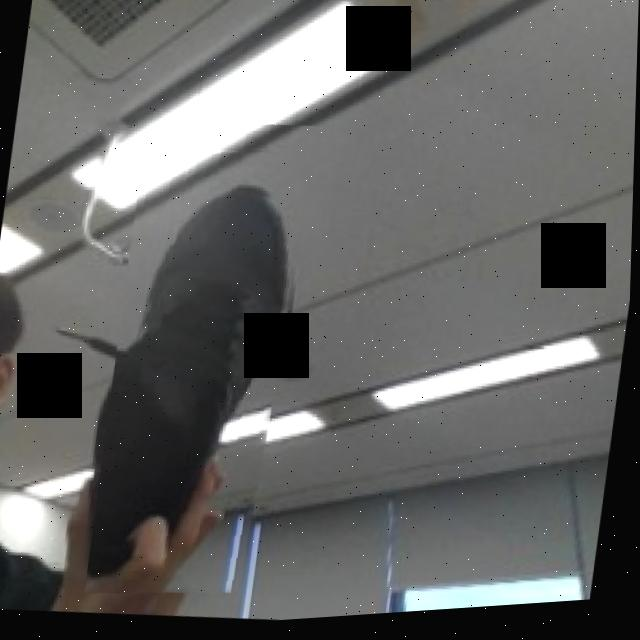shoe: (88, 112, 323, 614)
